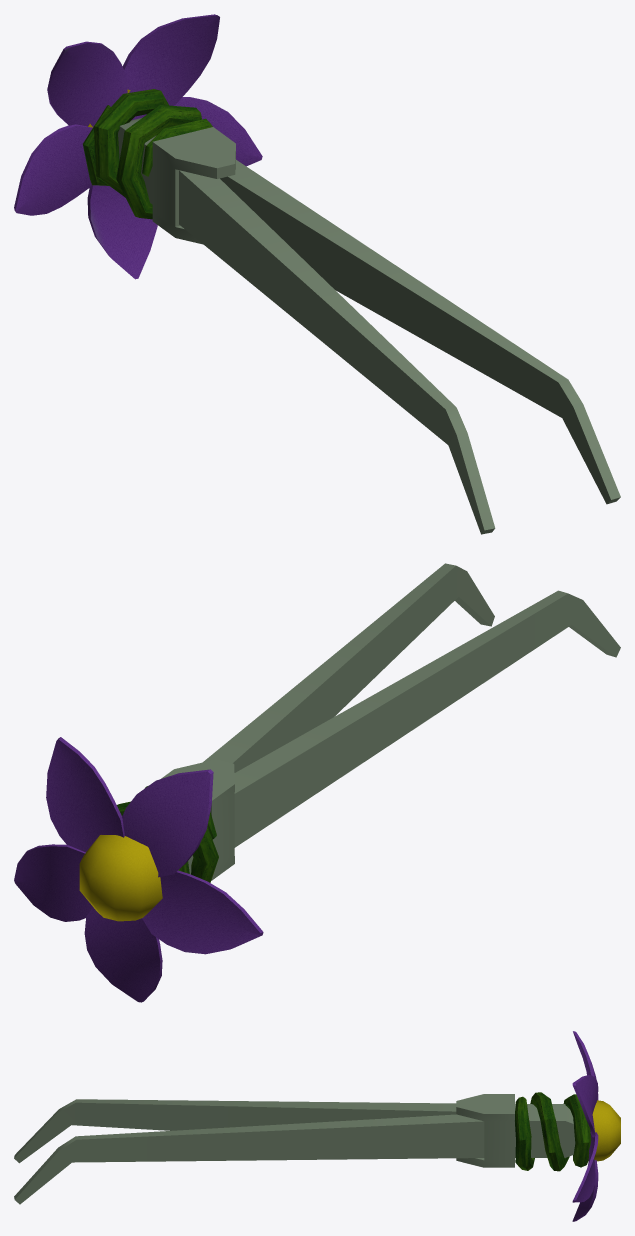
The model's file is PincetteV2_colored.fbx.
The picture shows the model from 3 angles, top to bottom: view 1: azimuth 30°, elevation 25°; view 2: azimuth 150°, elevation 25°; view 3: azimuth 270°, elevation 25°; orthographic projection. The views are drawn at different scales.
Visible parts, largest first — view 1: Pincette, right, left; view 2: Pincette, left, right; view 3: right, Pincette, left.
Part boxes in pixels (box(x1,y1,x2,y2)): Pincette: box(14, 14, 262, 279); right: box(220, 159, 620, 504); left: box(179, 170, 495, 534); Pincette: box(14, 737, 263, 1002); left: box(234, 590, 620, 847); right: box(203, 563, 494, 772); right: box(14, 1114, 484, 1204); Pincette: box(456, 1031, 620, 1221); left: box(14, 1099, 456, 1163).
Size of the model in its own units: 47.44 by 45.5 by 149.
Materials: 1 (1 with a texture image).
